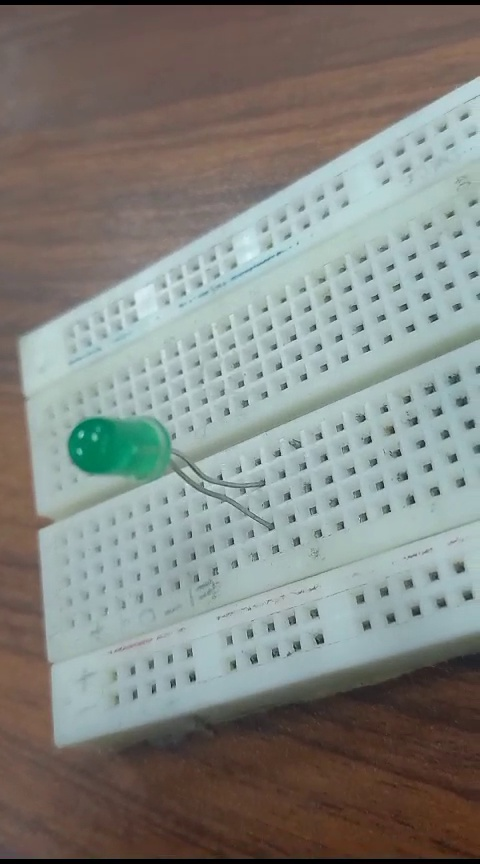LED: (67, 408, 276, 543)
